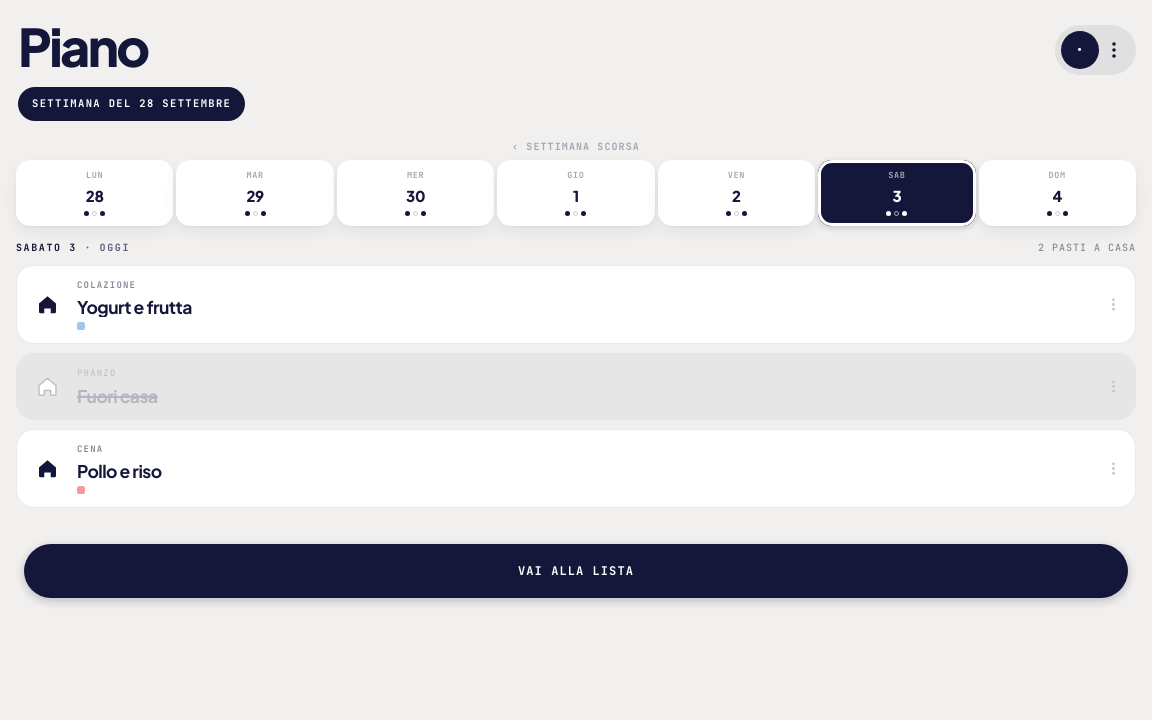
Test case: settimana precedente › il link carica la settimana di sette giorni fa, senza bottone di conferma
Expected: the text "Yogurt e frutta" is shown, [77,297,192,317]
Step 1. Click the button "‹ SETTIMANA SCORSA" → (576, 146), box [510,135,642,158]
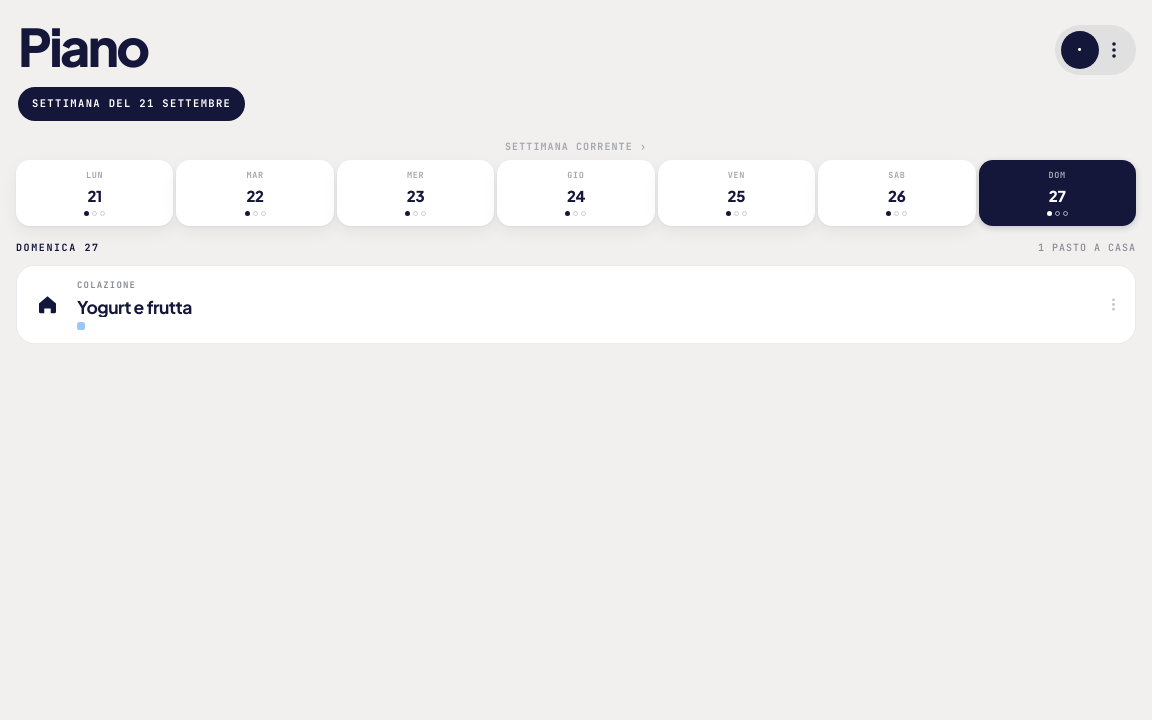
Expected: the button named "Azioni per Colazione" is shown, [1091,266,1135,343]
Result: the button "SETTIMANA CORRENTE ›" is shown at [503,135,649,158]
Result: the button "VAI ALLA LISTA" is gone
